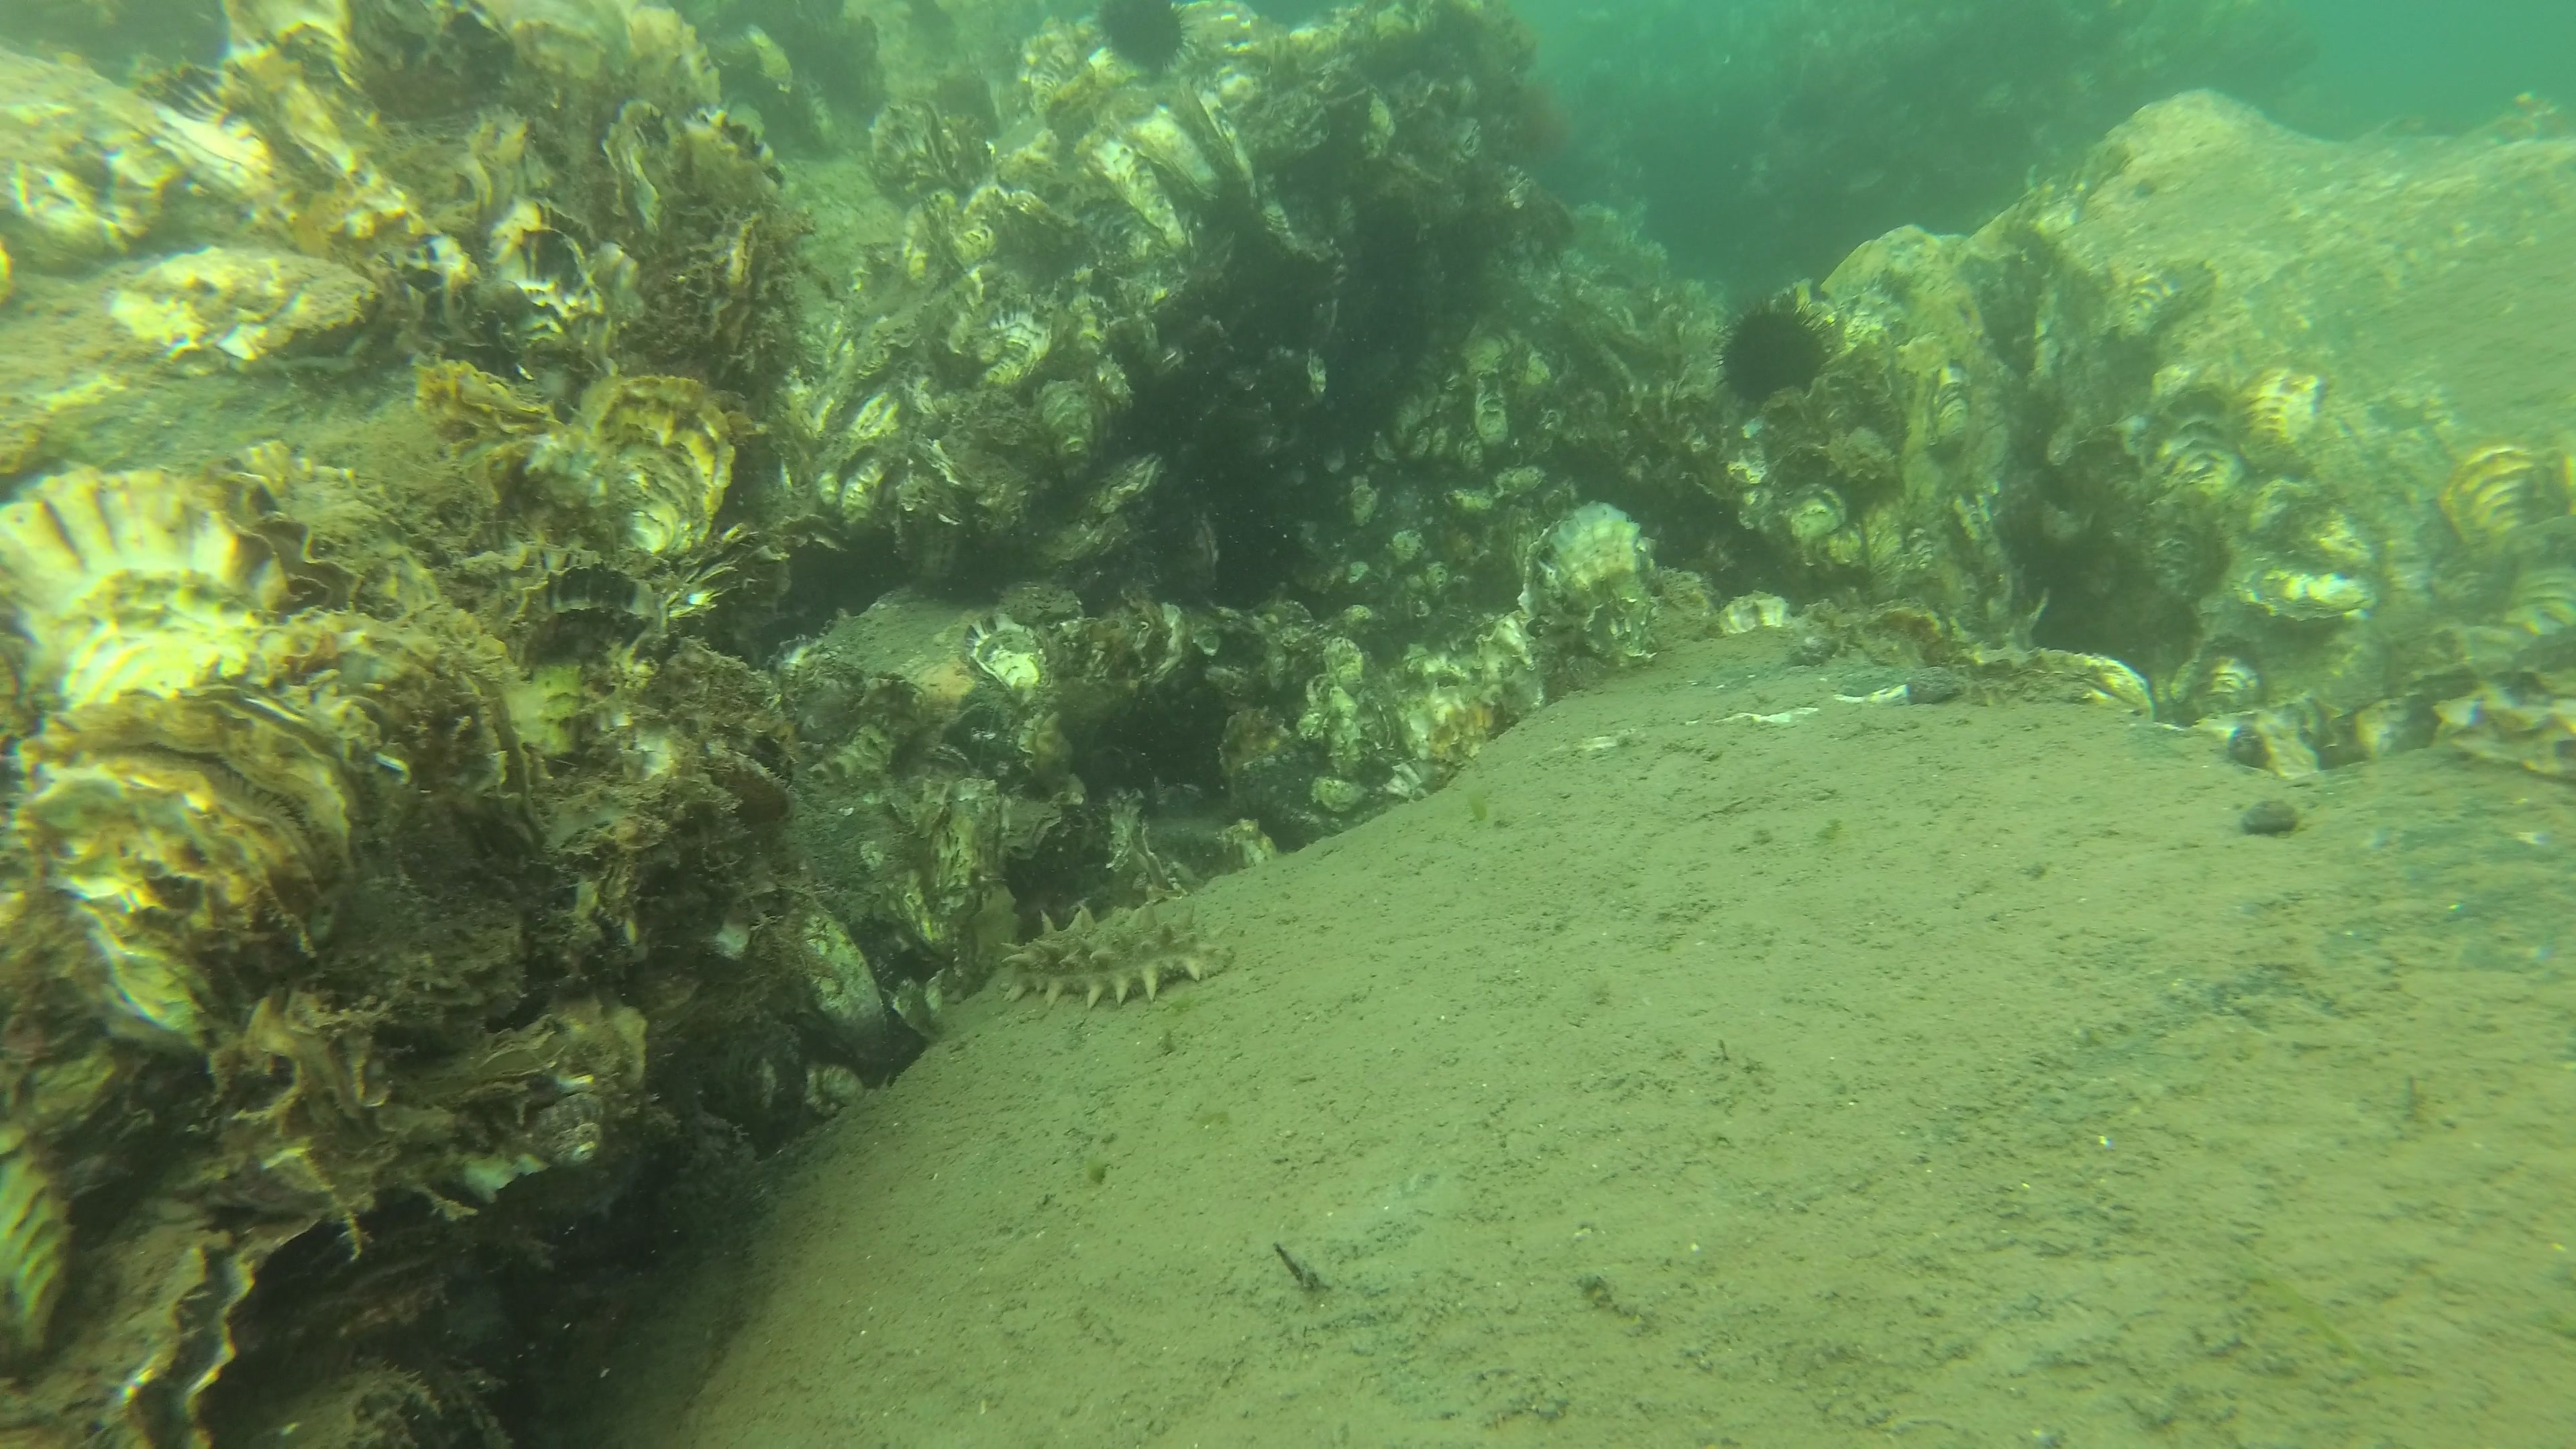echinus: (1709, 292, 1844, 414), (1088, 0, 1196, 83)
holothurian: (994, 897, 1244, 1014)
